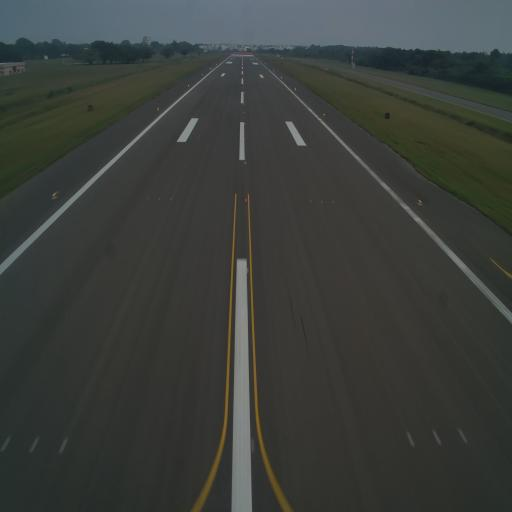off: (428, 422, 444, 458), (56, 431, 72, 461), (26, 430, 41, 458), (454, 422, 468, 452), (0, 427, 12, 459), (403, 427, 416, 456), (308, 196, 315, 210), (319, 197, 326, 209), (330, 196, 337, 207), (156, 192, 162, 204), (168, 192, 174, 202), (145, 194, 150, 204)
on: (50, 187, 61, 203), (417, 195, 423, 209), (241, 157, 248, 167), (246, 265, 252, 276), (244, 194, 248, 205)
